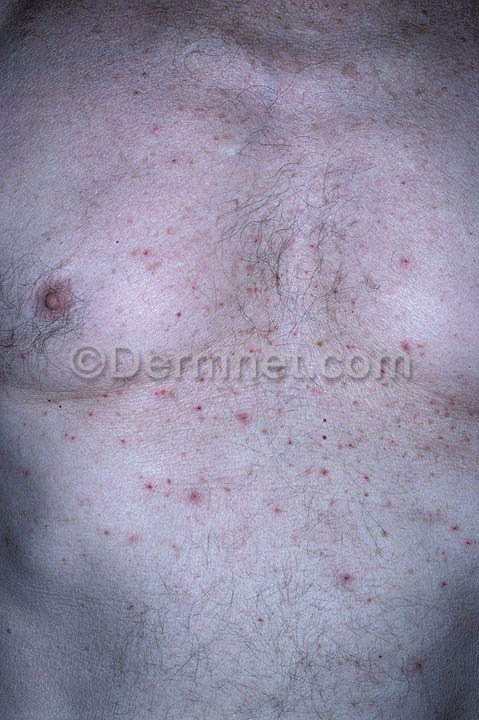Psoriasis: (143, 87, 249, 169), (303, 402, 376, 497), (145, 383, 274, 436), (130, 447, 221, 521), (213, 285, 294, 351), (426, 512, 479, 608), (417, 382, 477, 457), (358, 319, 444, 370), (42, 393, 117, 447), (108, 217, 163, 278)
